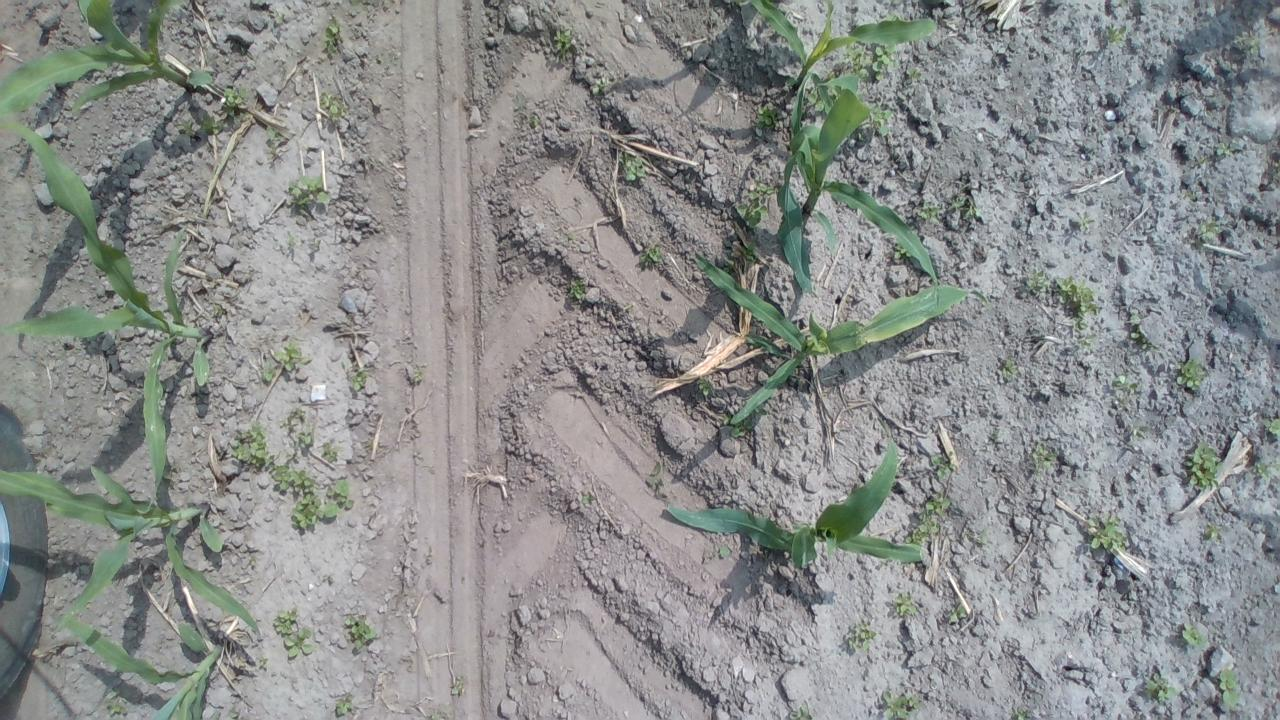Maize: (0, 108, 222, 516), (687, 253, 976, 430), (1, 458, 264, 642), (750, 89, 944, 298), (659, 439, 931, 570), (738, 0, 948, 131), (2, 0, 236, 111), (55, 607, 243, 720)
Weeds: (1020, 268, 1098, 325), (294, 477, 357, 533), (252, 337, 310, 385), (848, 42, 909, 84), (272, 610, 318, 664), (907, 493, 951, 547), (734, 178, 776, 232), (1184, 440, 1222, 495), (920, 194, 989, 224), (226, 422, 268, 470), (284, 172, 334, 212), (1084, 516, 1130, 558), (341, 610, 383, 656), (875, 687, 929, 720), (267, 456, 309, 496), (178, 109, 228, 142), (1125, 304, 1156, 355), (1212, 663, 1244, 711), (318, 18, 352, 61), (224, 84, 258, 127), (754, 99, 792, 135), (1140, 672, 1180, 706), (1172, 358, 1206, 395), (620, 153, 656, 187), (892, 588, 926, 624), (968, 526, 1004, 558), (640, 242, 674, 274), (1029, 444, 1061, 478), (843, 619, 875, 653), (1210, 134, 1240, 170), (318, 88, 348, 122), (549, 25, 578, 60), (1180, 620, 1210, 653), (939, 597, 968, 629), (1100, 22, 1130, 52), (726, 408, 756, 438), (1193, 212, 1222, 243), (644, 465, 670, 498), (930, 446, 955, 480), (264, 124, 289, 158), (347, 366, 375, 396), (1110, 367, 1140, 395), (995, 353, 1025, 380), (874, 106, 896, 142), (1249, 458, 1279, 484), (1202, 520, 1228, 550), (1237, 32, 1259, 65), (104, 694, 134, 718), (576, 490, 602, 516), (206, 300, 231, 325), (1074, 210, 1100, 234), (784, 703, 818, 720), (292, 430, 314, 456), (568, 278, 588, 306), (890, 242, 914, 265), (334, 693, 356, 718), (450, 671, 468, 700), (406, 365, 430, 386), (1009, 705, 1041, 720), (716, 545, 740, 565), (284, 406, 310, 424), (1077, 331, 1097, 353), (306, 232, 326, 252), (588, 75, 609, 94), (698, 376, 716, 398), (280, 229, 296, 253), (1263, 416, 1280, 437), (1184, 186, 1203, 204), (320, 444, 338, 462), (514, 92, 530, 112), (525, 110, 541, 129), (428, 708, 452, 718)
